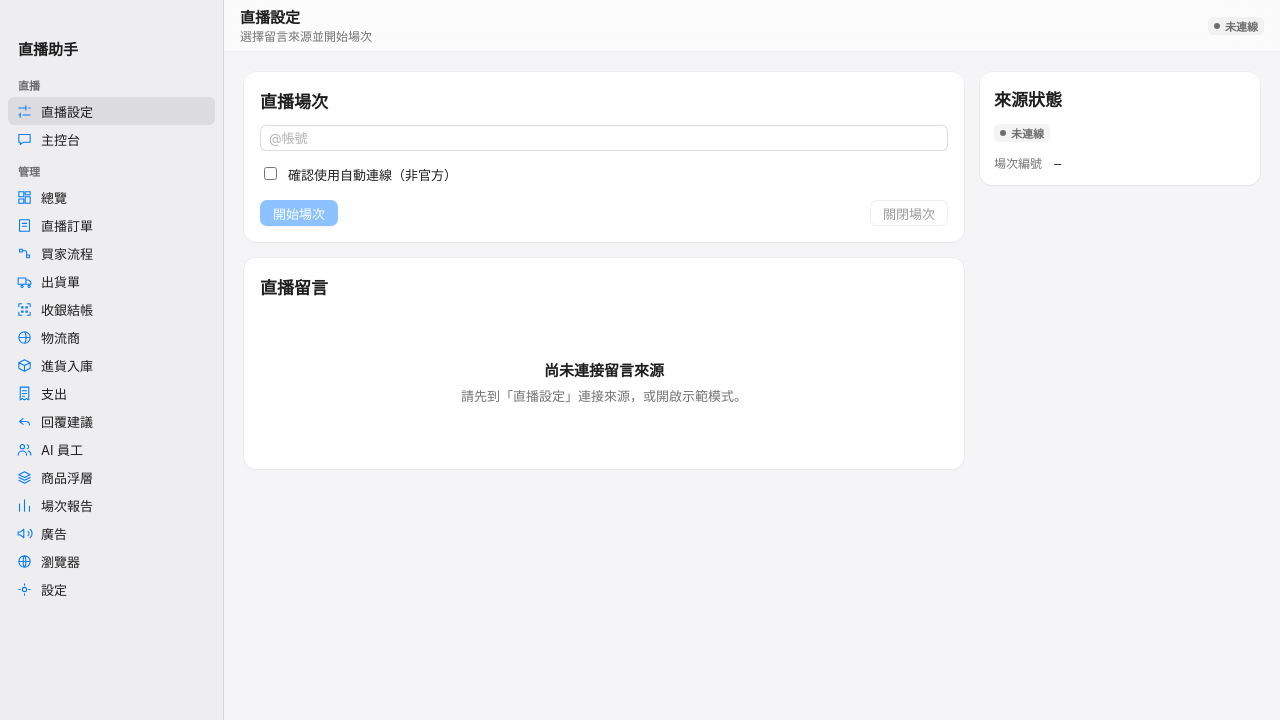
Test: Live Assistant UI › a username with no verified provider ends UNAVAILABLE and cannot start
This screenshot has width=1280, height=720.
In the field named "TikTok ID": x=604, y=138 [260, 125, 948, 151], type "shop"
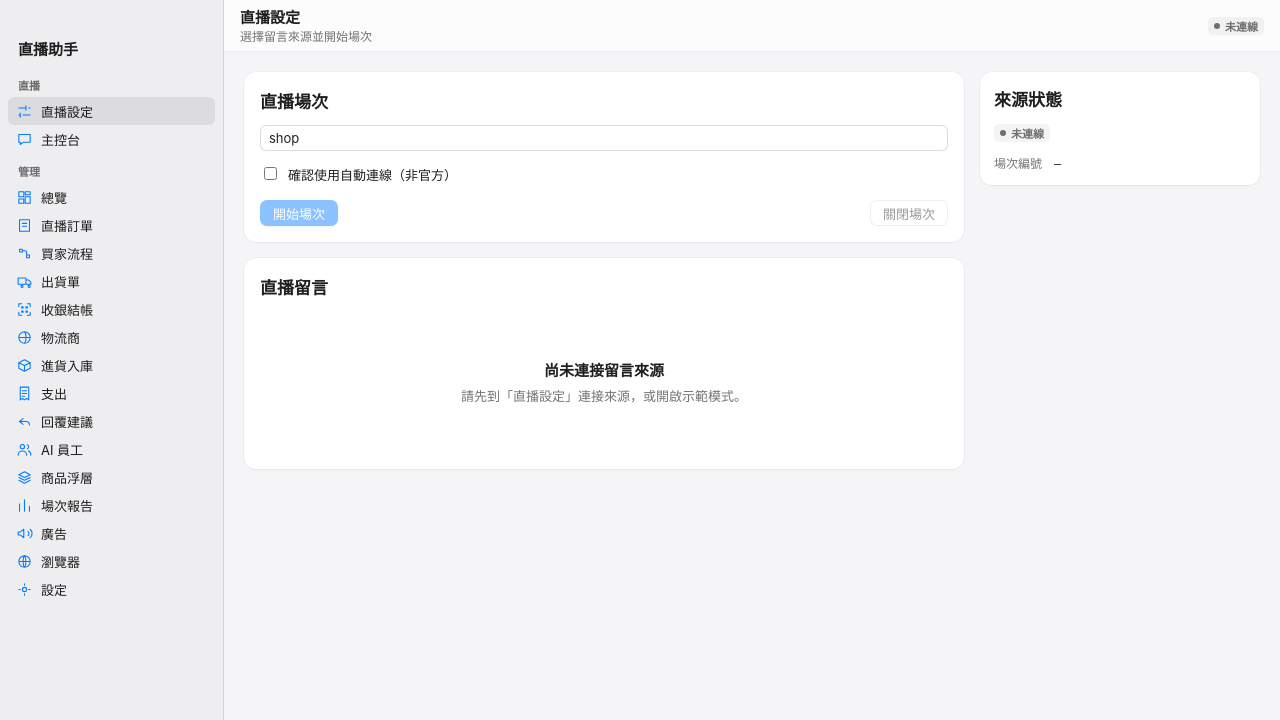
Click the checkbox labelled "確認使用自動連線（非官方）": x=270, y=174 [264, 167, 277, 180]
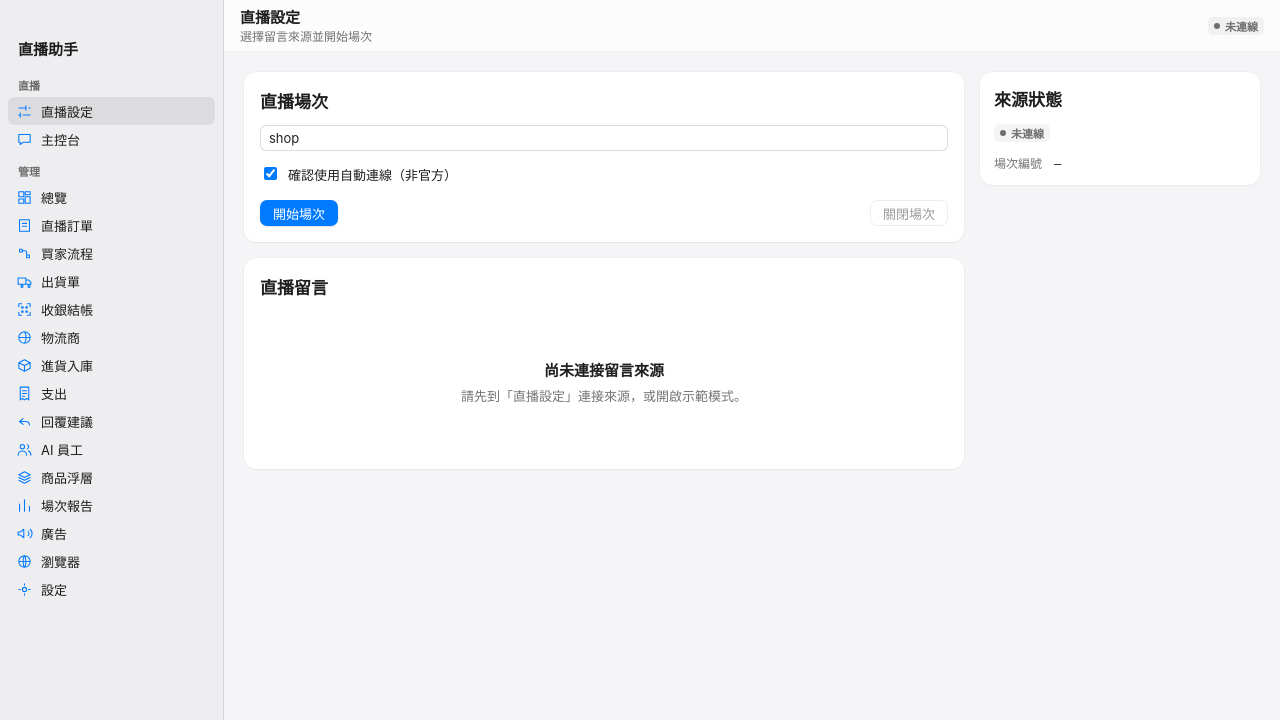
Click the button "開始場次": x=299, y=213 [260, 200, 338, 226]
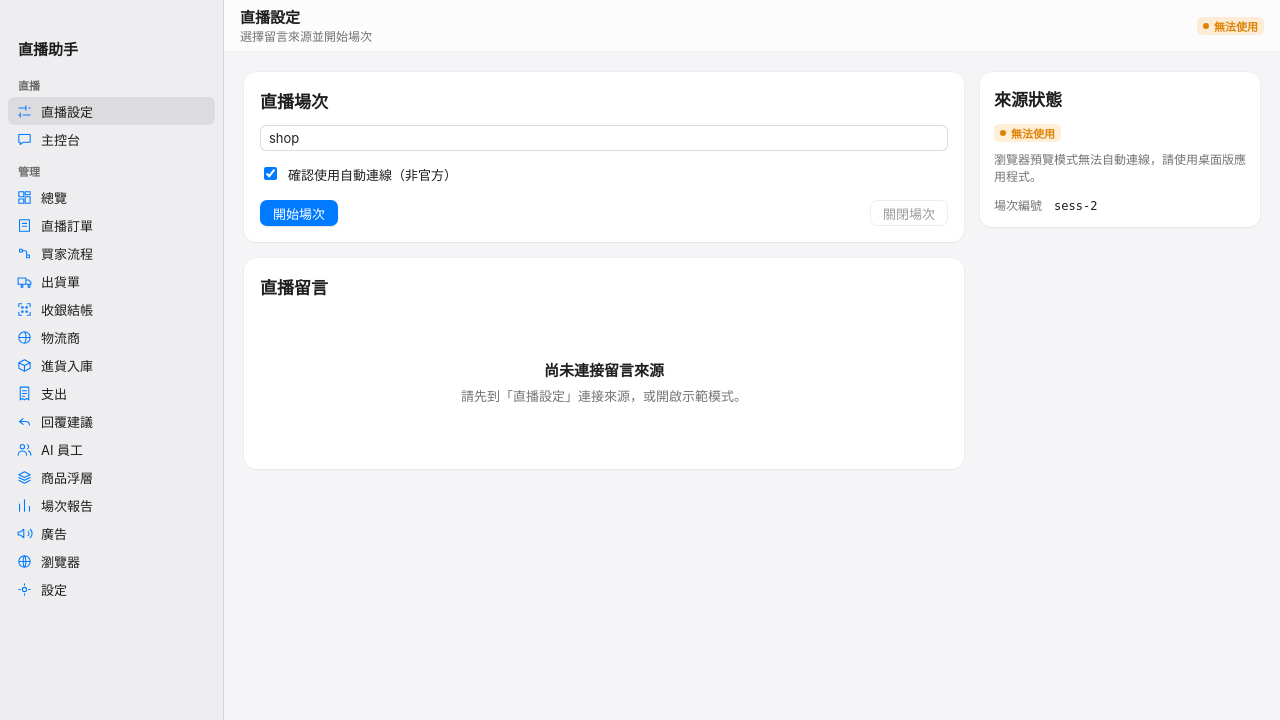
expect the button "開始場次" is enabled: met, box [260, 200, 338, 226]
expect the text "瀏覽器預覽模式無法自動連線，請使用桌面版應用程式。" is shown: met, box [994, 150, 1246, 184]
